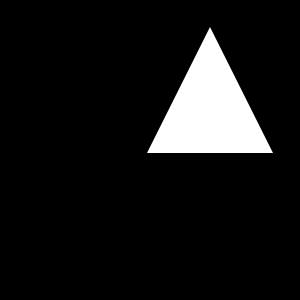triangle: (147, 27, 273, 153)
